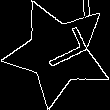L_SW: (29, 28, 88, 77)
